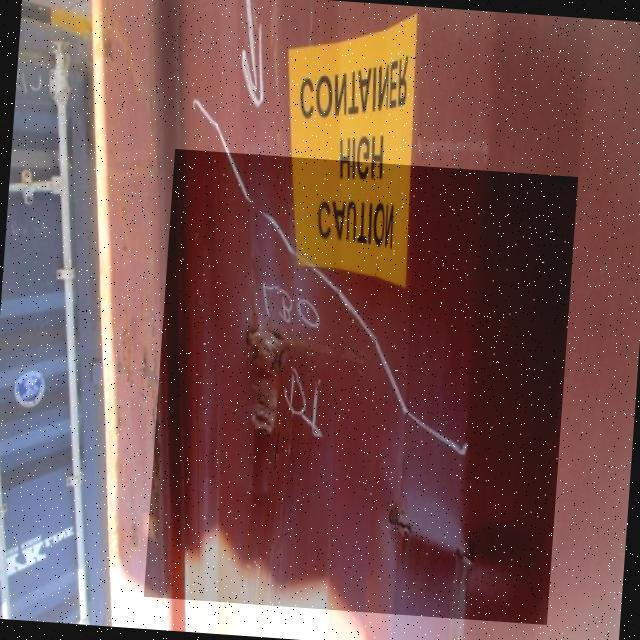Dent: (144, 149, 578, 625)
